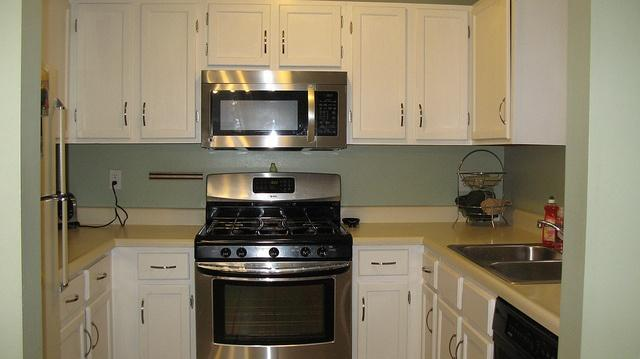Lemari: (345, 0, 512, 143), (70, 0, 200, 142), (201, 0, 348, 68)
